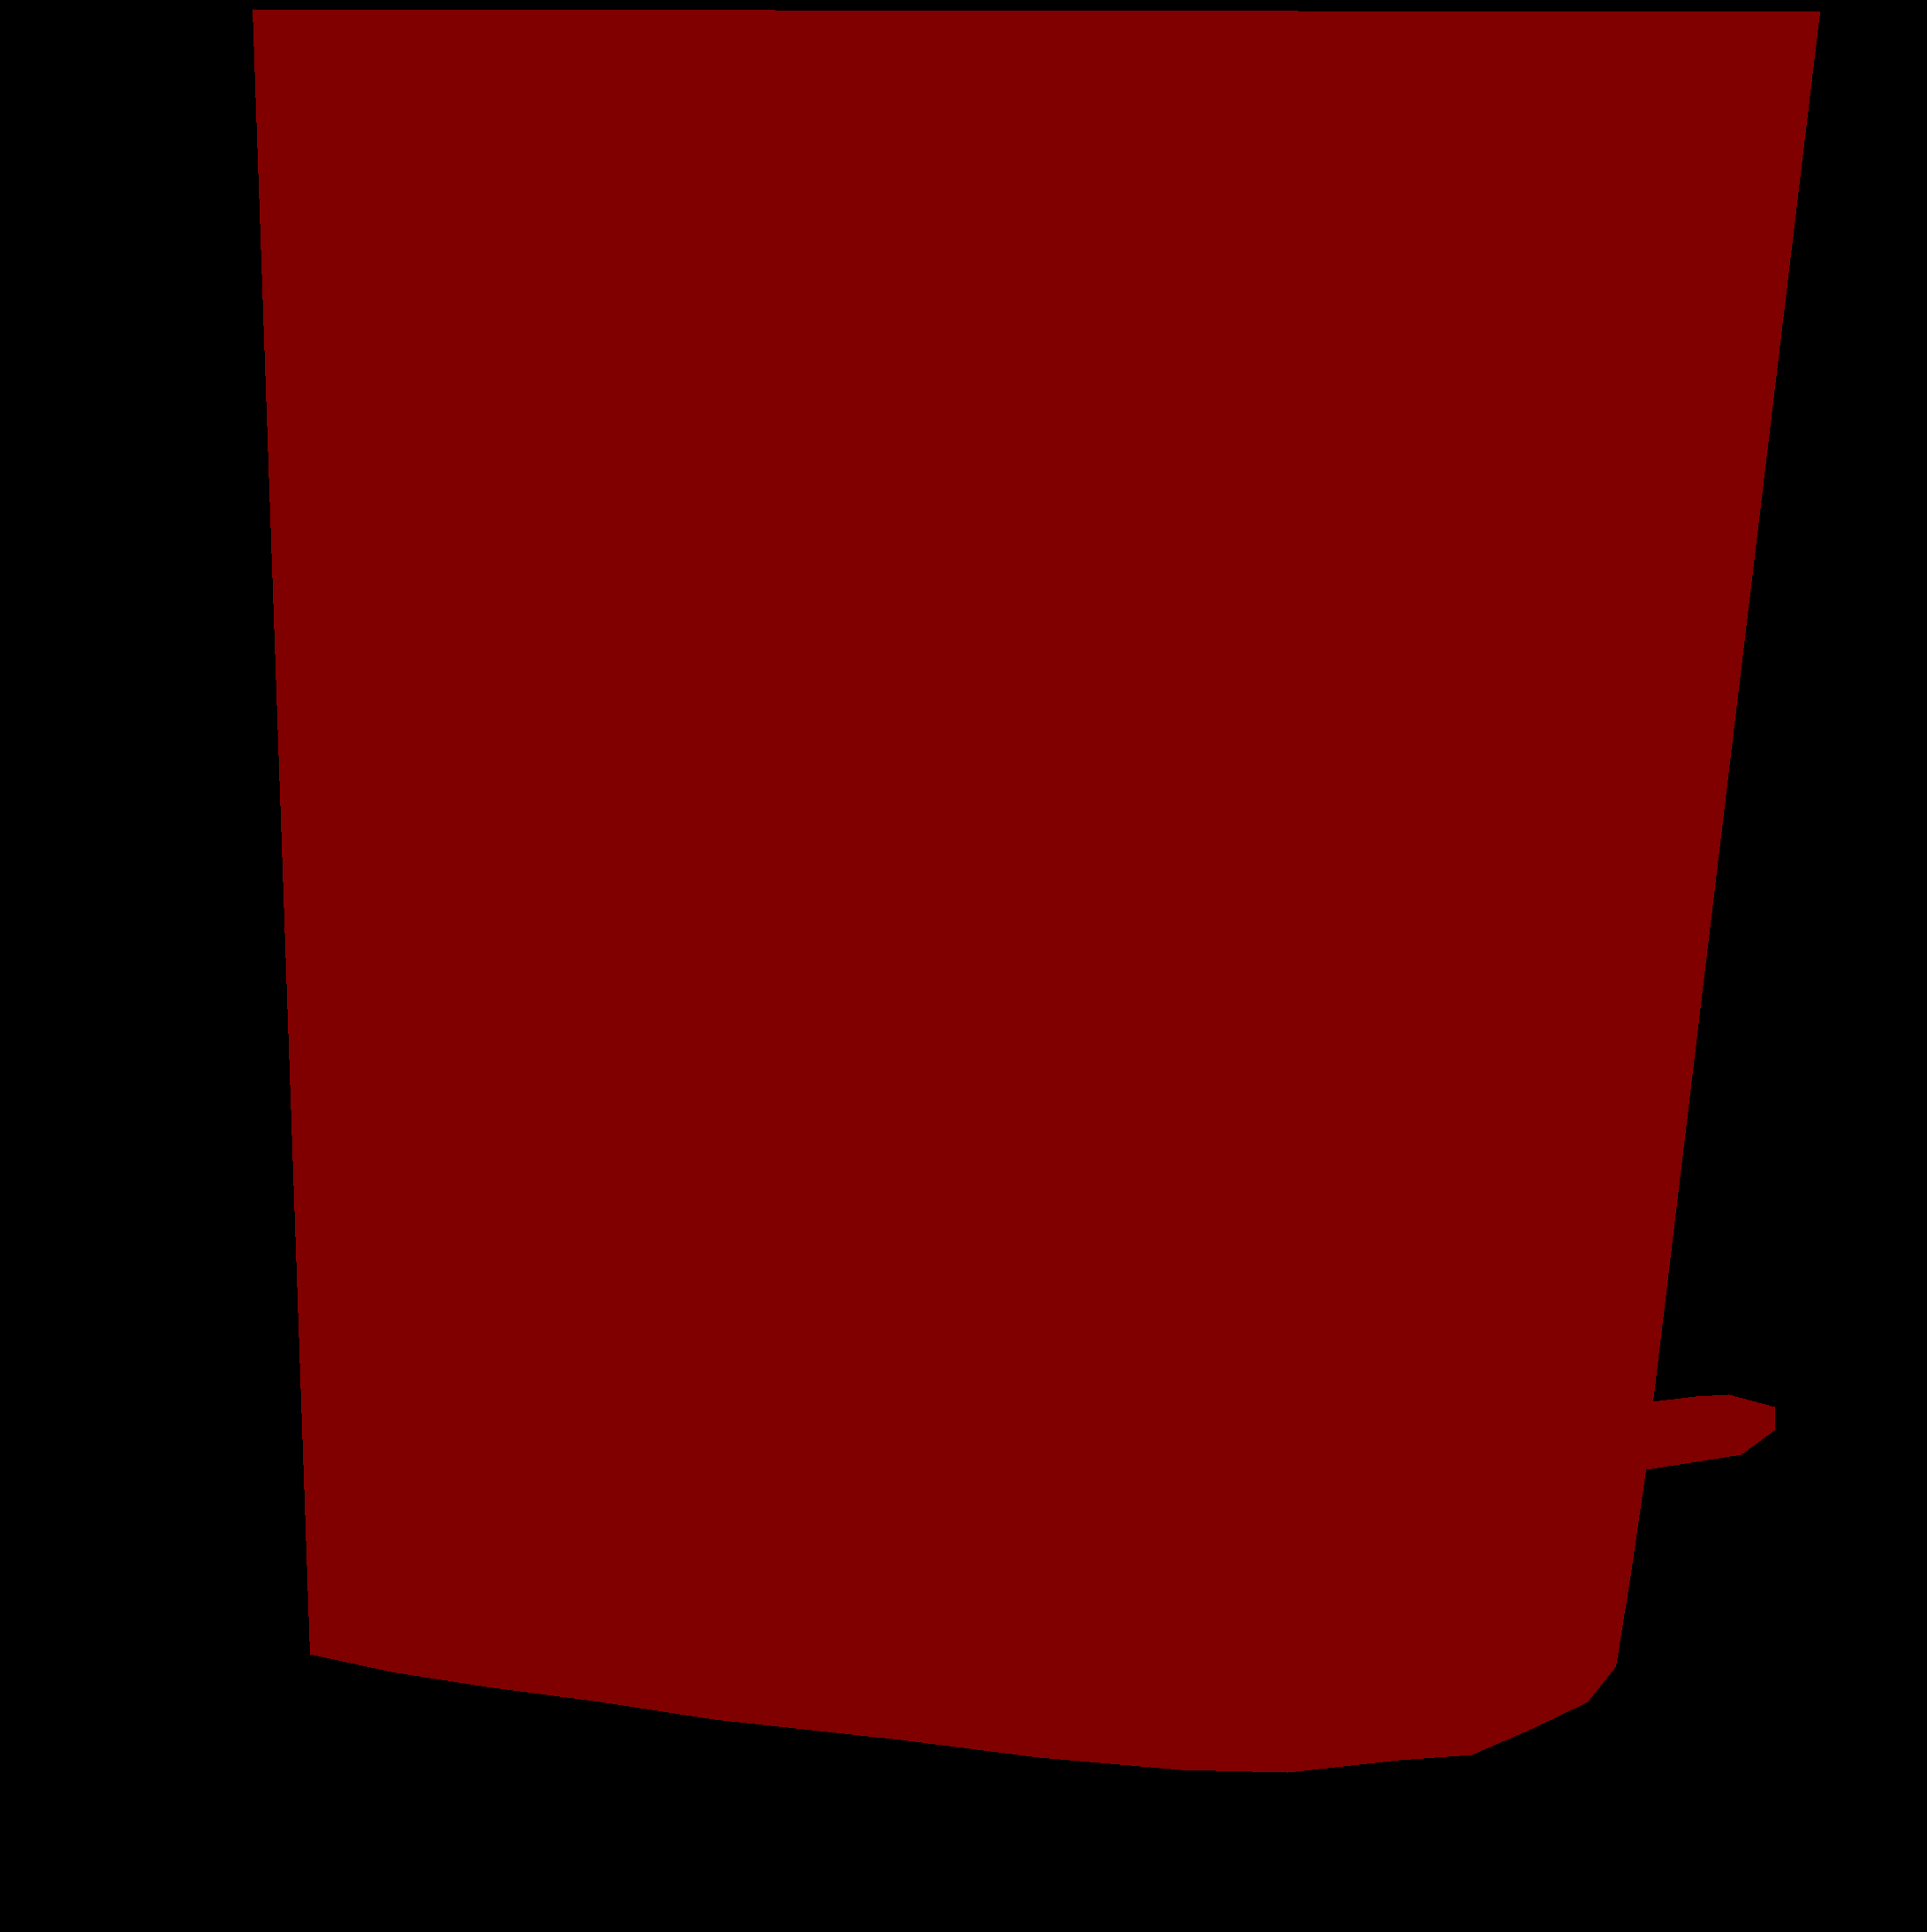sign: (252, 9, 1819, 1771)
